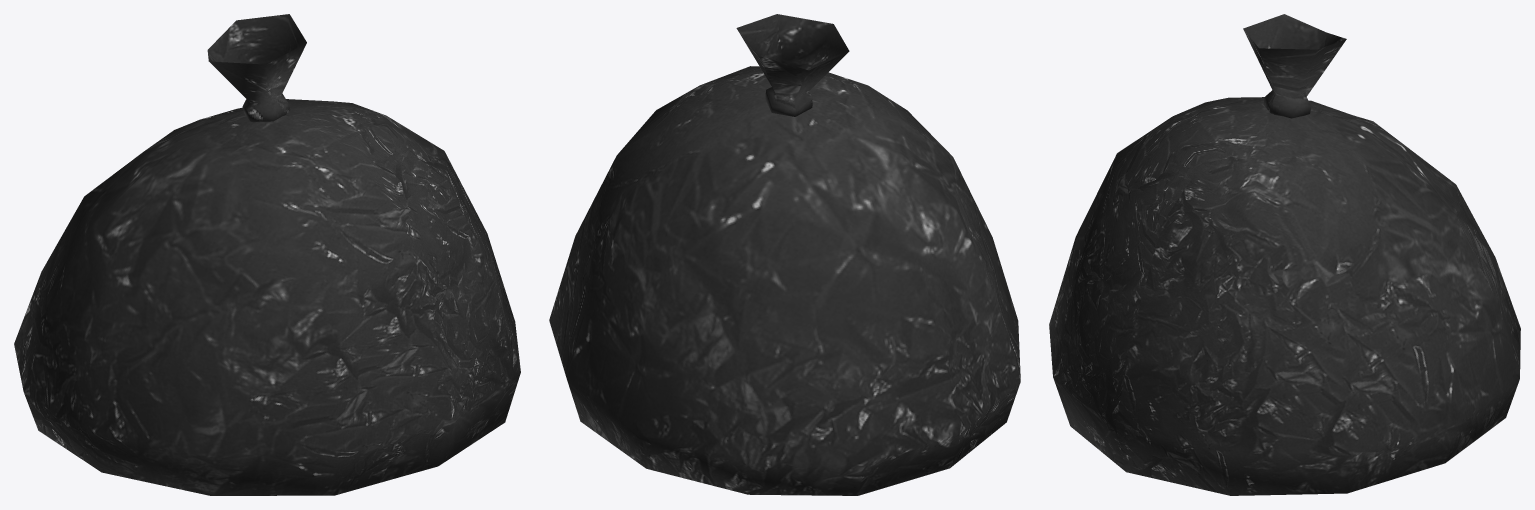
Rendered from trashbag.fbx.
The picture shows the model from 3 angles, left to right: view 1: azimuth 30°, elevation 25°; view 2: azimuth 150°, elevation 25°; view 3: azimuth 270°, elevation 25°; orthographic projection.
Visible parts, largest first — view 1: garbage_bags1_1; view 2: garbage_bags1_1; view 3: garbage_bags1_1.
Boxes of the visible parts, x1,y1,x2,y2 form: garbage_bags1_1: (14, 14, 520, 495); garbage_bags1_1: (549, 14, 1020, 495); garbage_bags1_1: (1049, 14, 1520, 495).
Size of the model in its own units: 0.5264 by 0.4603 by 0.5085.
